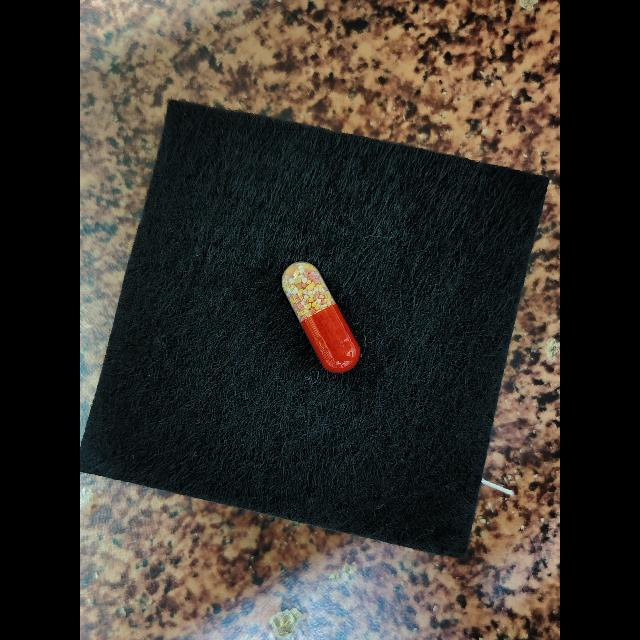Intact Capsule: (282, 261, 361, 373)
